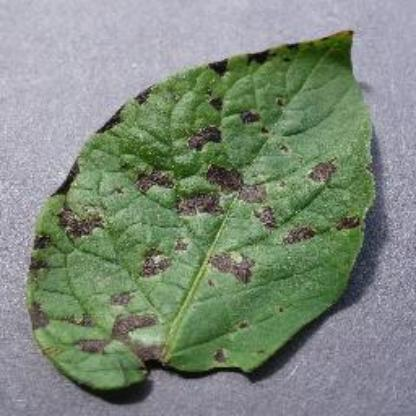Early-Blight: (31, 16, 407, 404)
